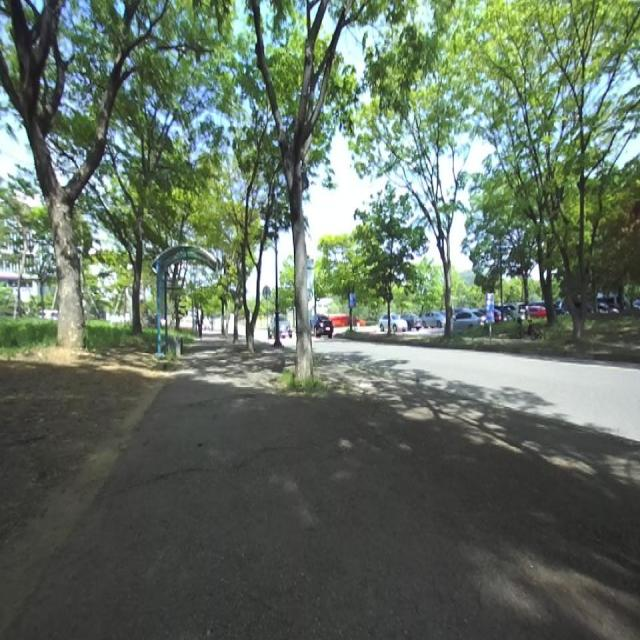sidewalk: (8, 338, 640, 639)
